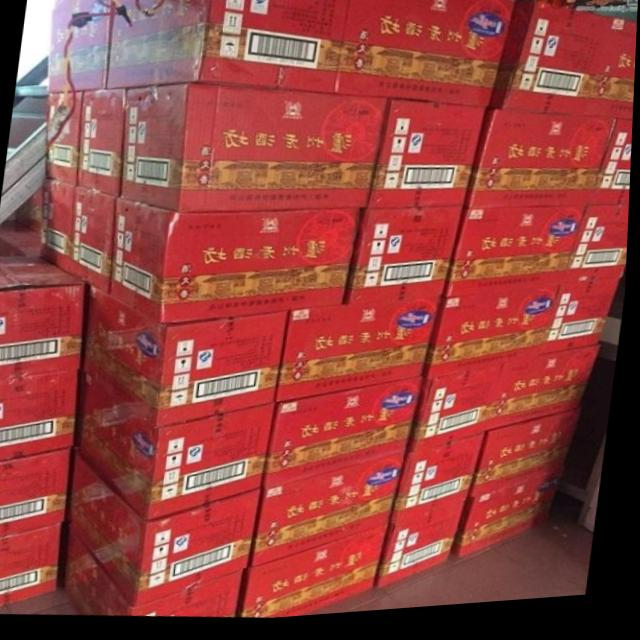box: (123, 83, 389, 214), (113, 199, 368, 322), (83, 288, 293, 429), (70, 457, 264, 608), (76, 384, 278, 522), (106, 0, 350, 97), (336, 0, 513, 114), (411, 354, 604, 457), (427, 277, 628, 375), (277, 299, 444, 407), (488, 9, 638, 128), (256, 457, 414, 569), (267, 383, 426, 491), (247, 517, 396, 622), (465, 118, 617, 215), (371, 104, 486, 213), (347, 212, 465, 312), (0, 256, 89, 378), (448, 214, 590, 289), (472, 418, 586, 505), (380, 499, 472, 594), (0, 369, 81, 463), (396, 441, 488, 517), (0, 449, 75, 536), (466, 484, 547, 564), (47, 0, 114, 94), (77, 89, 127, 199), (0, 522, 63, 608), (72, 181, 119, 294), (569, 213, 631, 281), (590, 128, 634, 215), (46, 91, 86, 186), (40, 176, 75, 275)
